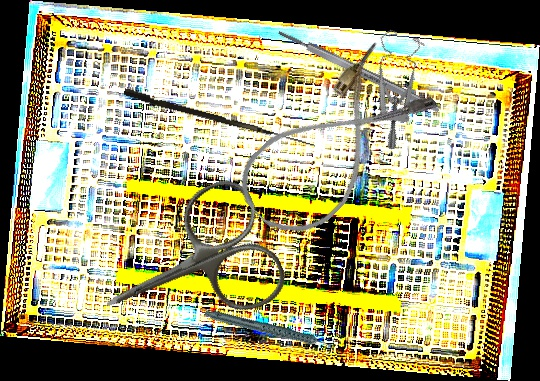Cannula: (225, 38, 443, 253)
Handpiece: (203, 284, 336, 378)
Hook Surgical: (122, 88, 318, 147)
Iris Scissors: (79, 172, 294, 363)
Scalpel Handle: (276, 27, 442, 115)
Speculum: (336, 22, 447, 152)
